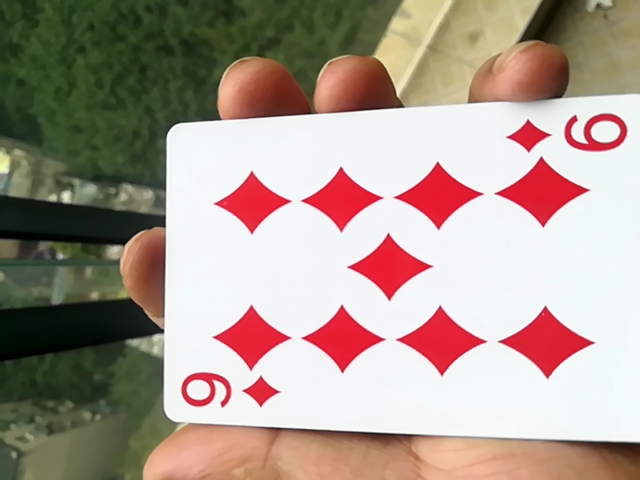fk 9: (148, 102, 636, 452)
